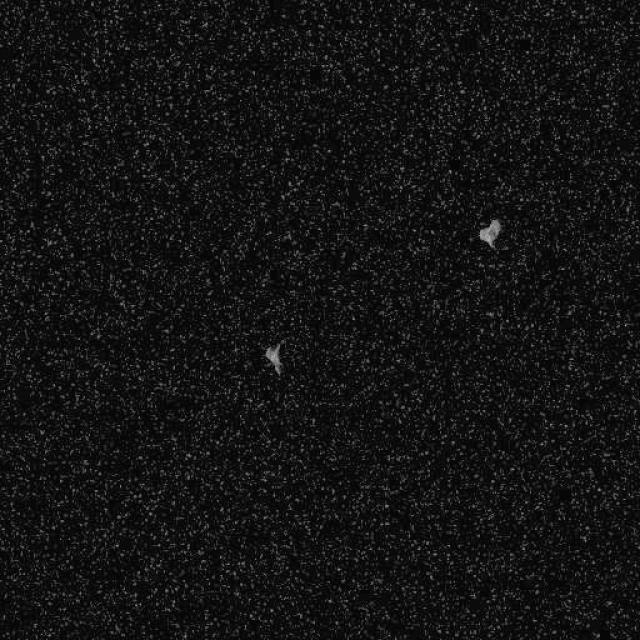D2: (477, 216, 502, 249), (262, 342, 284, 376)
